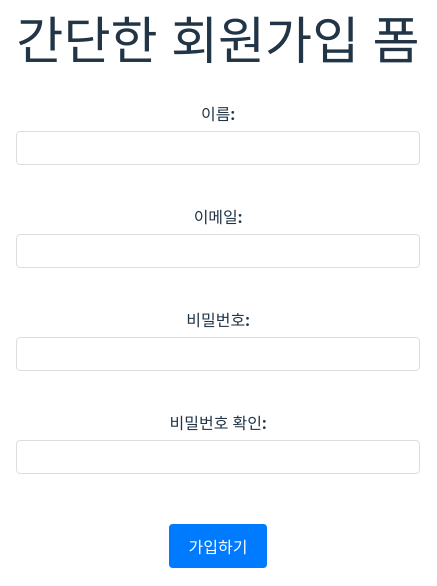
Scenario: RegistrationFormWithProps - Props에 따른 동작 테스트 › 실시간 밸리데이션 Props › enableRealTimeValidation=true일 때 실시간 밸리데이션이 작동한다
The width and height of the screenshot is (437, 586).
Type "a" into the field with test id "name-input". click: (218, 148)
box: [16,131,420,165]
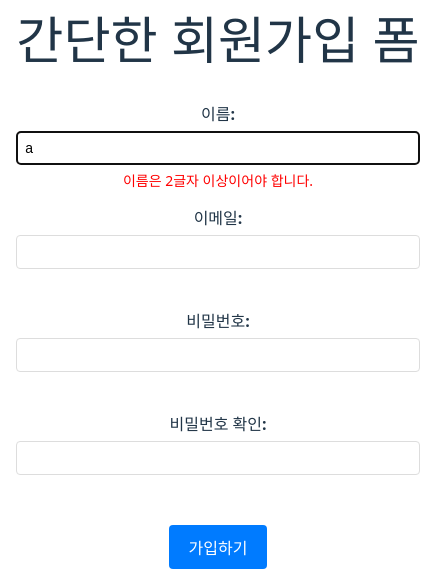
Expected: the text with test id "name-error" reads "이름은 2글자 이상이어야 합니다.", [123,171,313,190]
